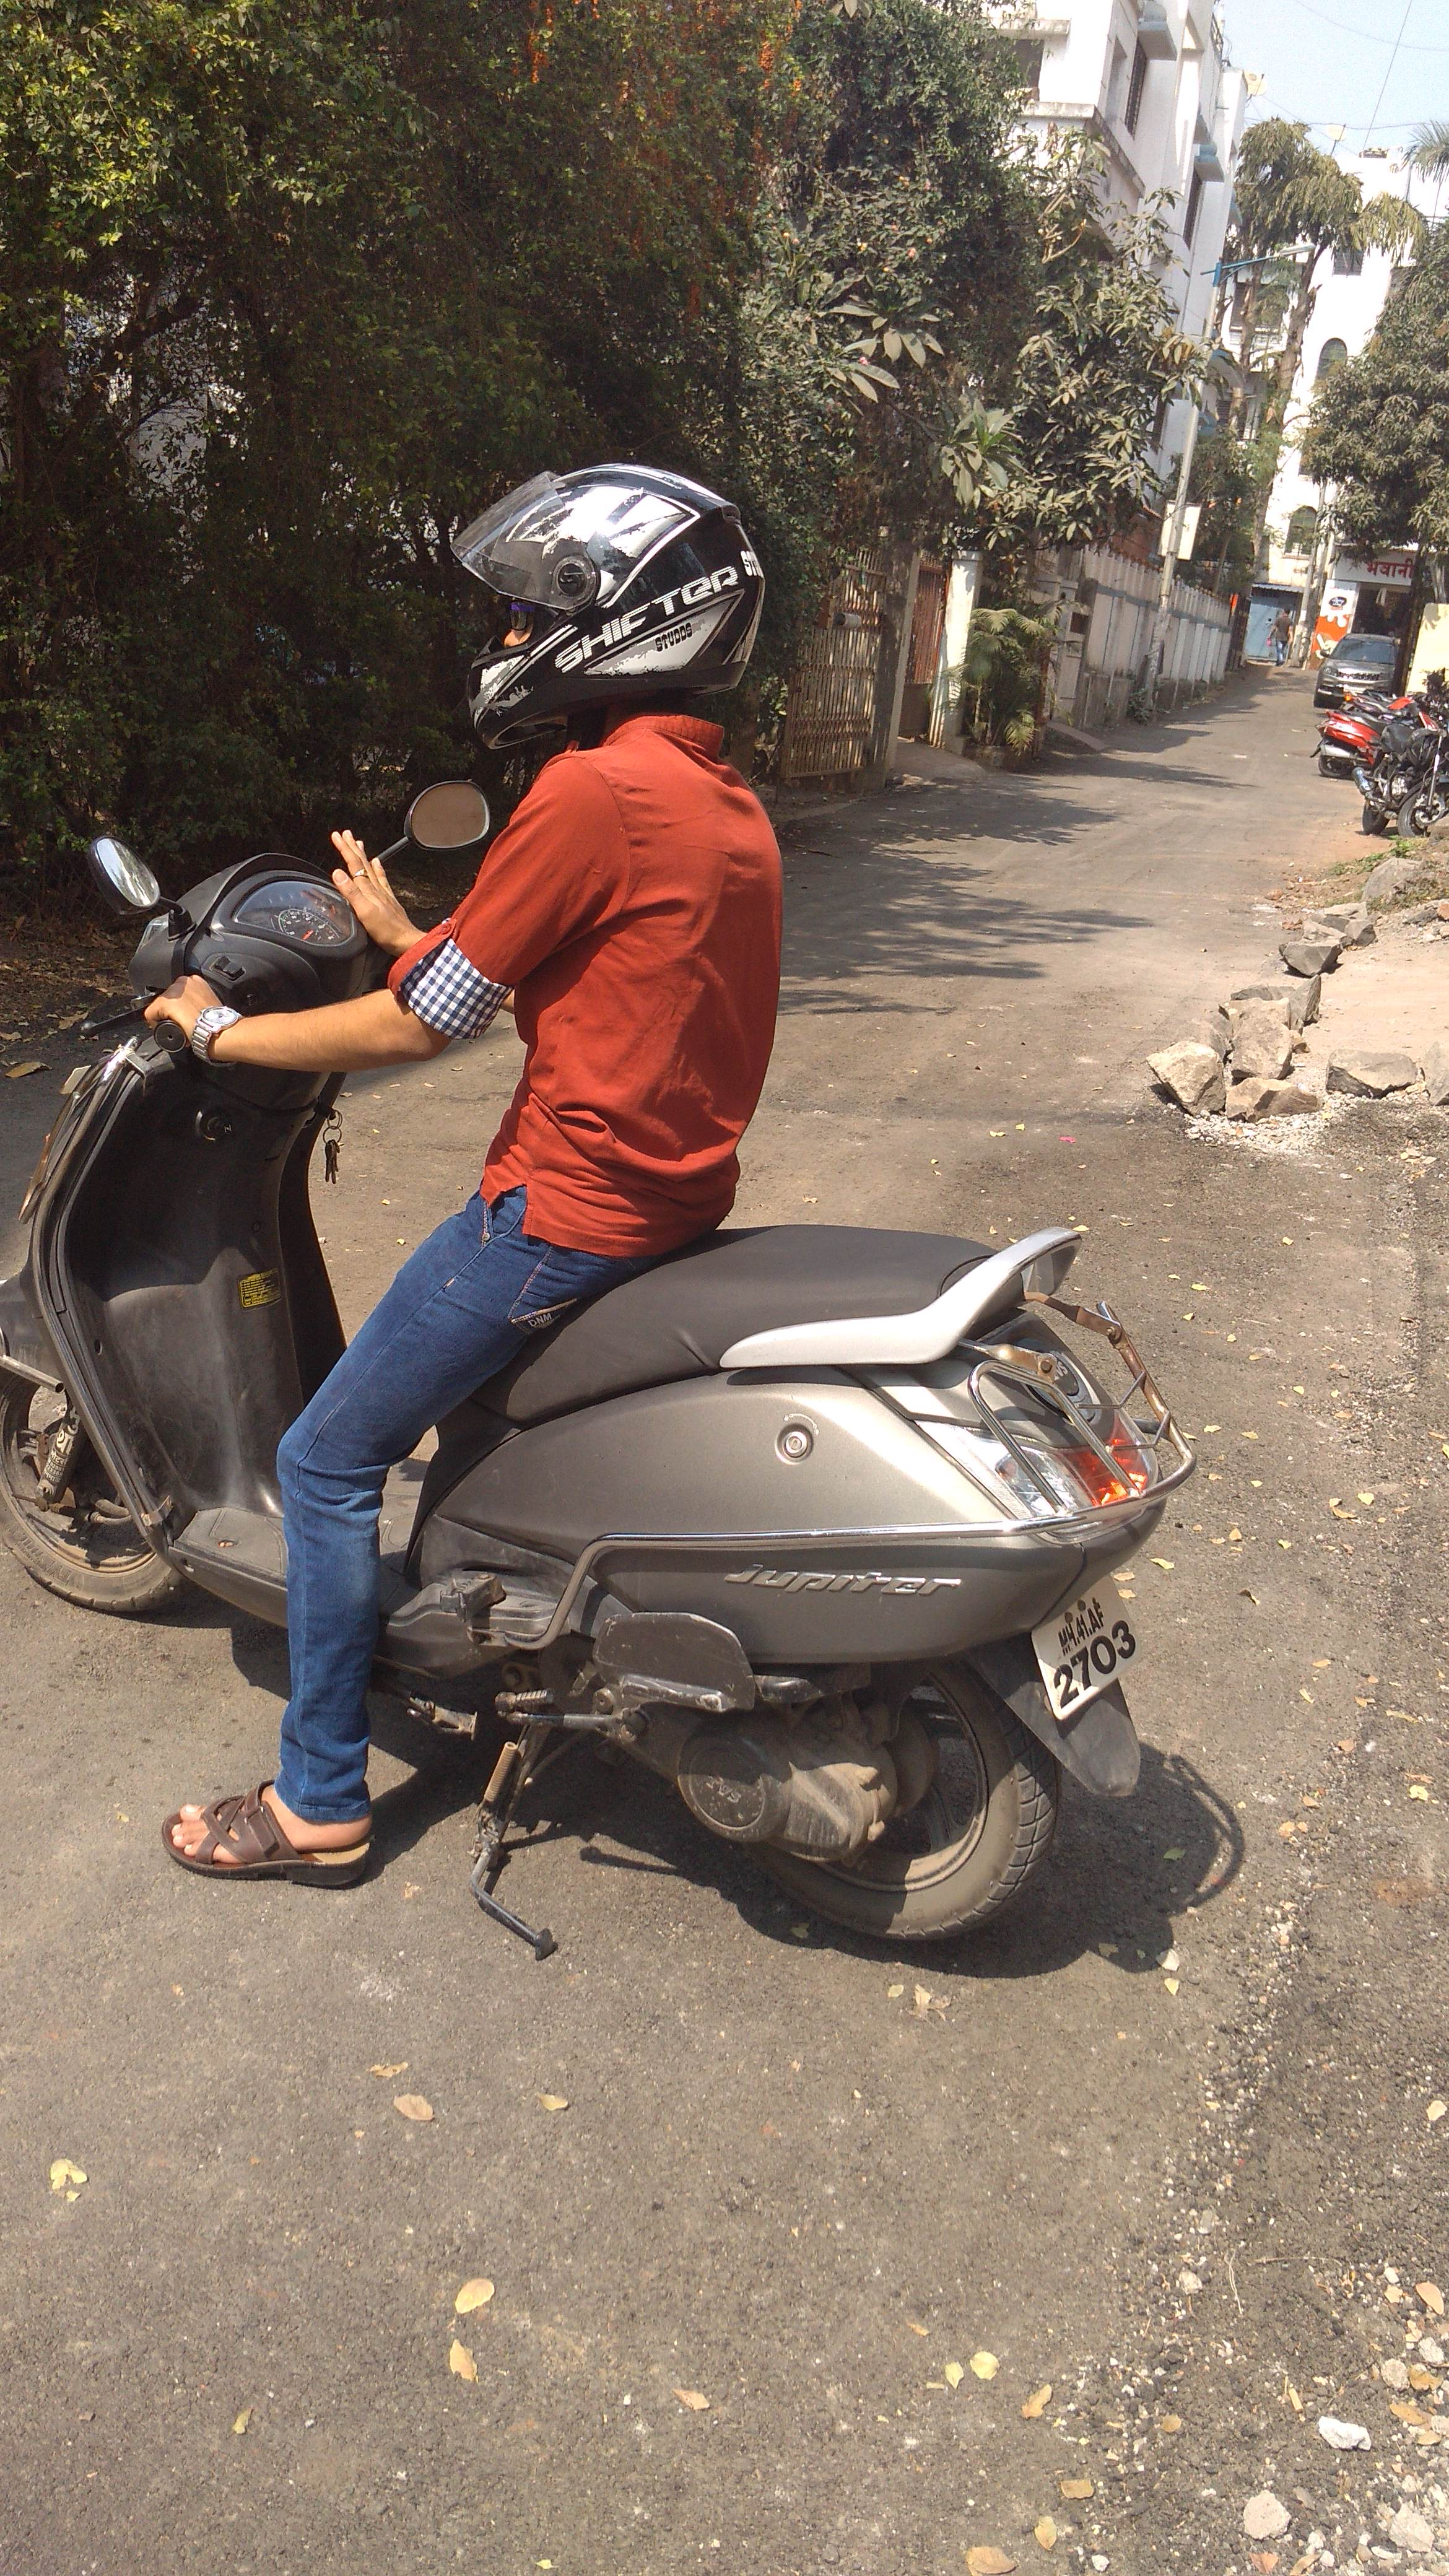helmet: (295, 458, 807, 1297)
